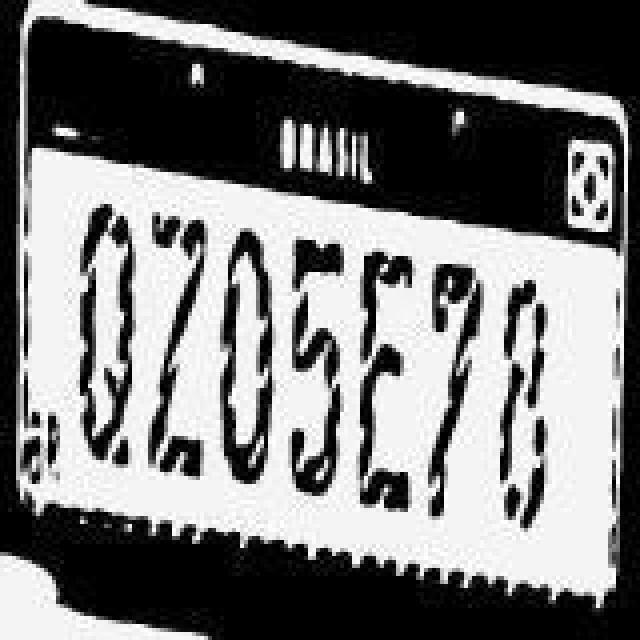5: (288, 236, 344, 500)
7: (426, 260, 486, 516)
8: (500, 274, 556, 534)
E: (354, 242, 414, 518)
O: (218, 228, 278, 492)
Q: (74, 196, 134, 468)
Z: (142, 208, 210, 480)
